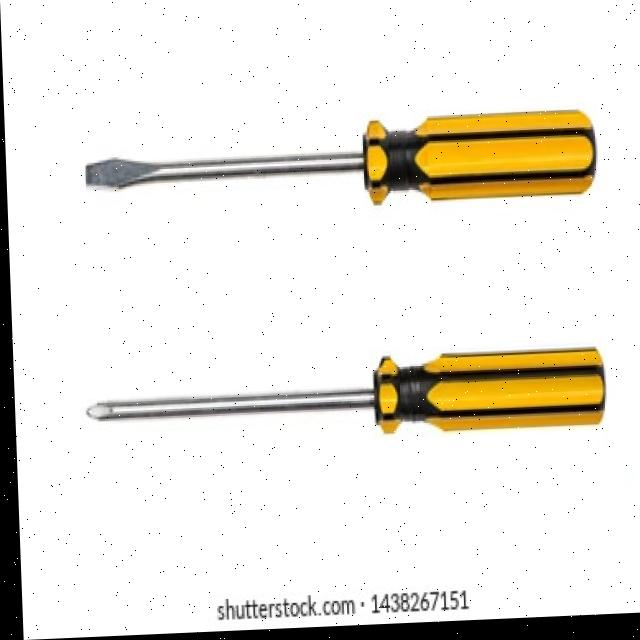Screwdriver: (84, 115, 595, 207), (84, 354, 604, 437)
